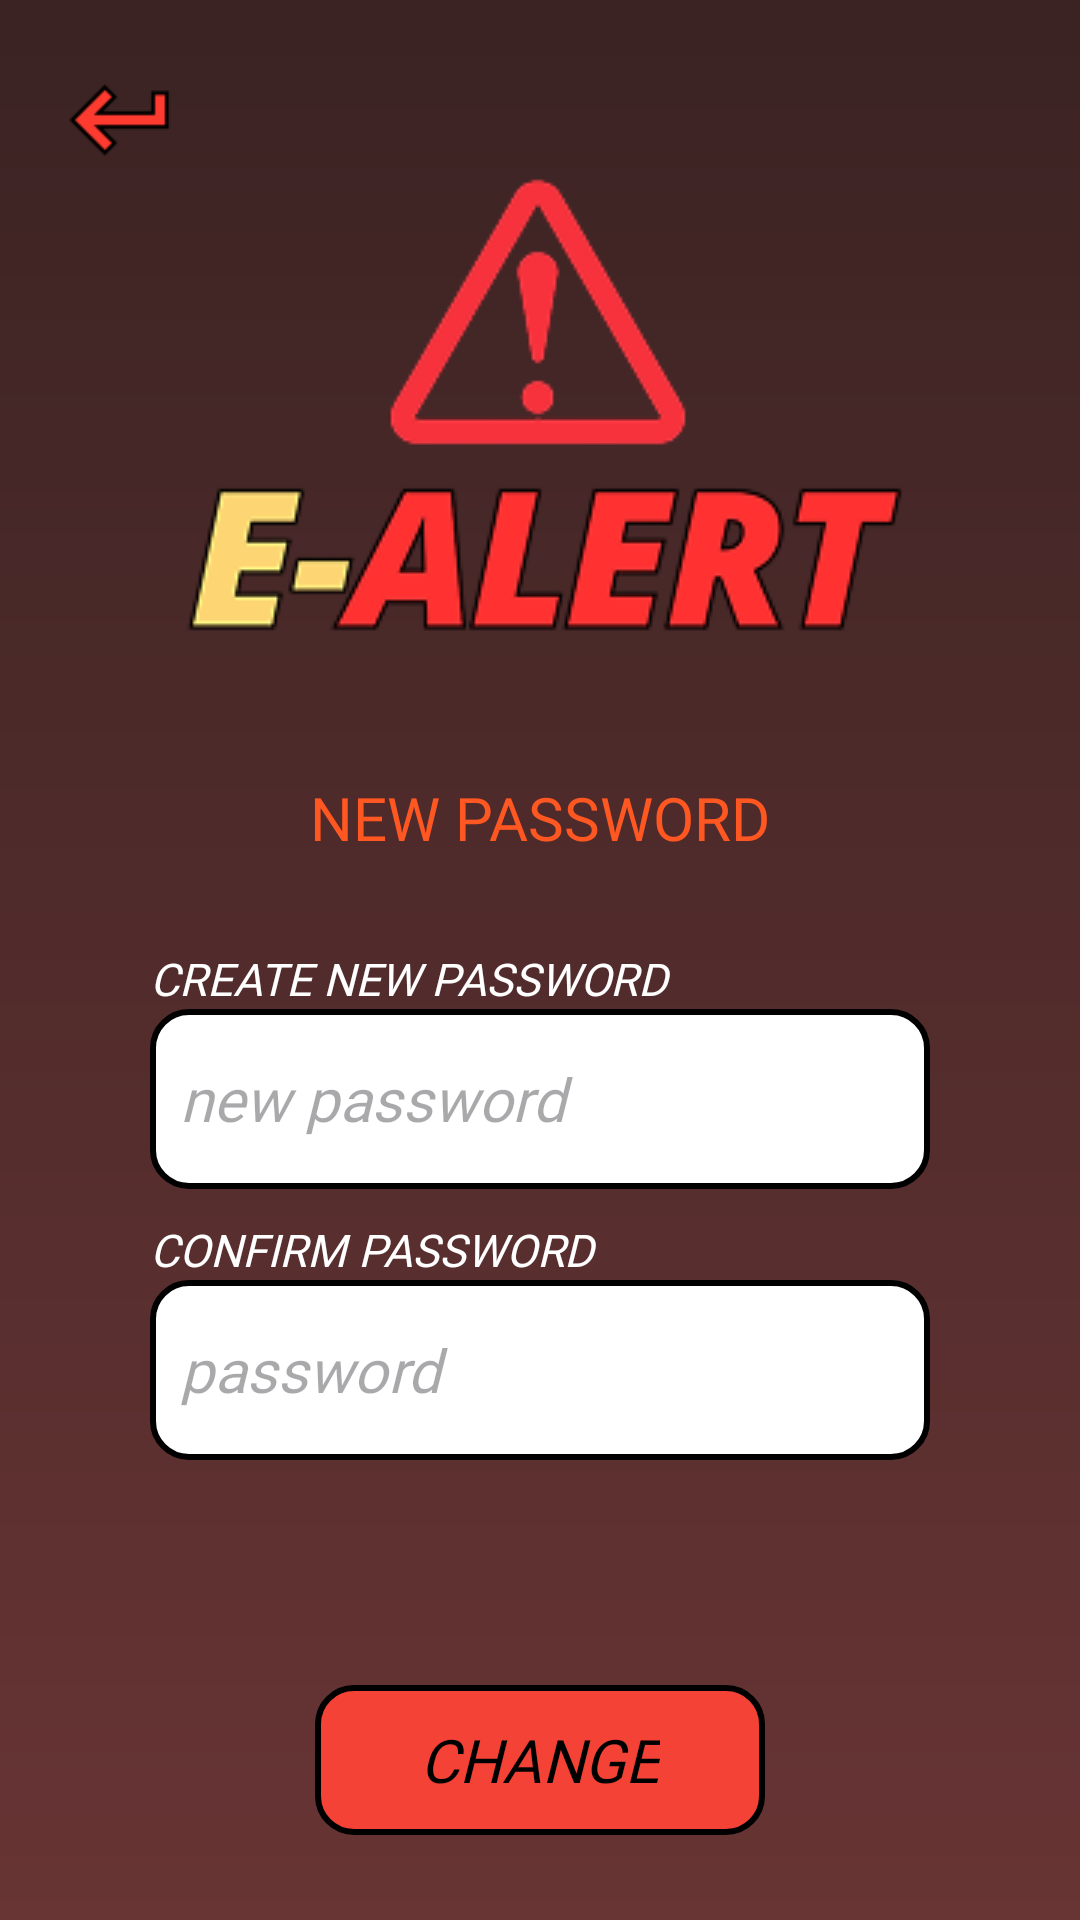

Where to tap for icons on this 1080*1920 app screen, as (x,y):
back: (119,120)
